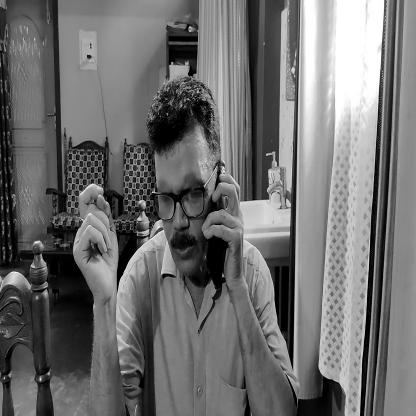Normal: (144, 70, 223, 286)
